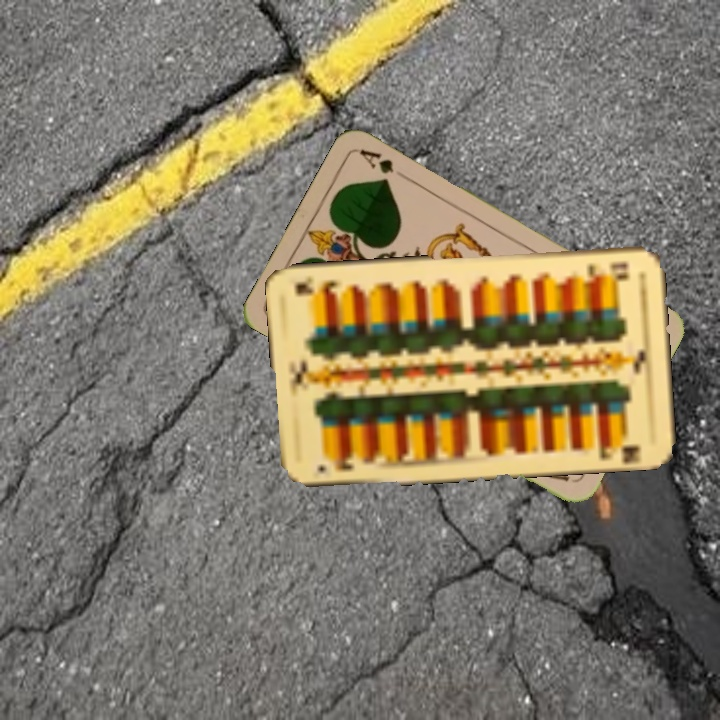E10: (584, 258, 631, 279), (313, 453, 357, 475)
